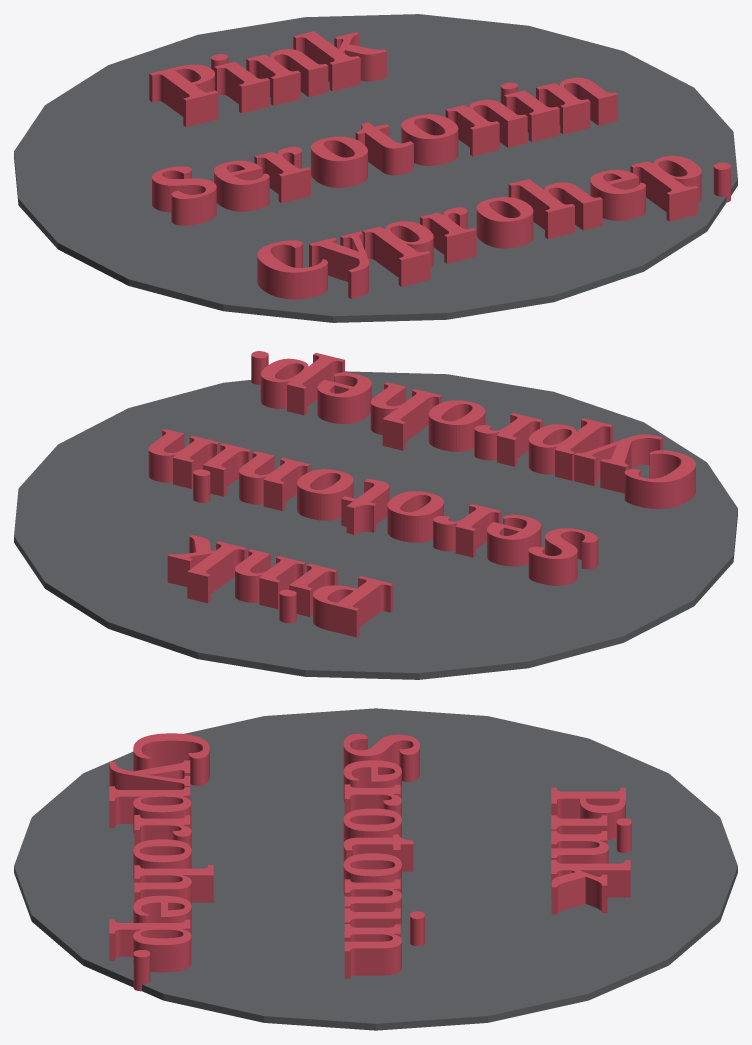
File: lasvegas.gltf
3 views of the same model, one above another, from view 1: azimuth 30°, elevation 25°; view 2: azimuth 150°, elevation 25°; view 3: azimuth 270°, elevation 25° (orthographic).
Visible parts, largest first — view 1: Mesh_Mesh_head_geo001_lambert2SG001; view 2: Mesh_Mesh_head_geo001_lambert2SG001; view 3: Mesh_Mesh_head_geo001_lambert2SG001.
Boxes of the visible parts, left/top/right/bottom form: Mesh_Mesh_head_geo001_lambert2SG001: left=14, top=14, right=737, bottom=322; Mesh_Mesh_head_geo001_lambert2SG001: left=14, top=351, right=737, bottom=679; Mesh_Mesh_head_geo001_lambert2SG001: left=14, top=708, right=737, bottom=1030.
Size of the model in its own units: 199 by 10 by 193.
